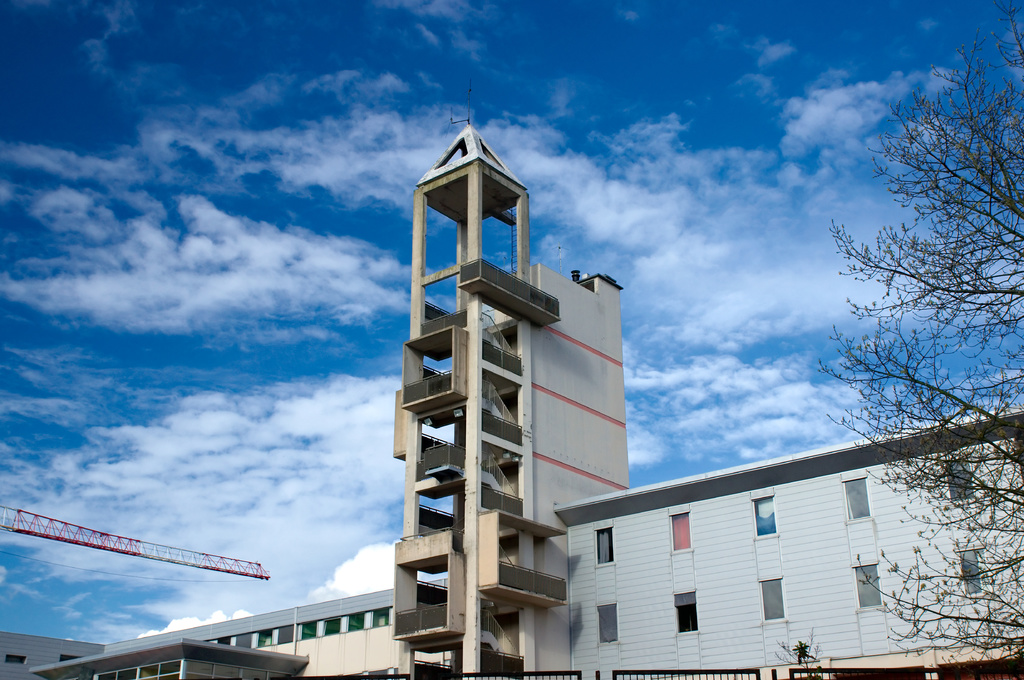Window: (956, 546, 991, 602), (945, 454, 981, 507), (855, 560, 885, 610), (760, 570, 787, 620), (847, 477, 875, 525), (671, 590, 699, 636), (751, 494, 775, 537), (589, 526, 612, 569), (598, 602, 618, 644), (671, 511, 690, 555)
